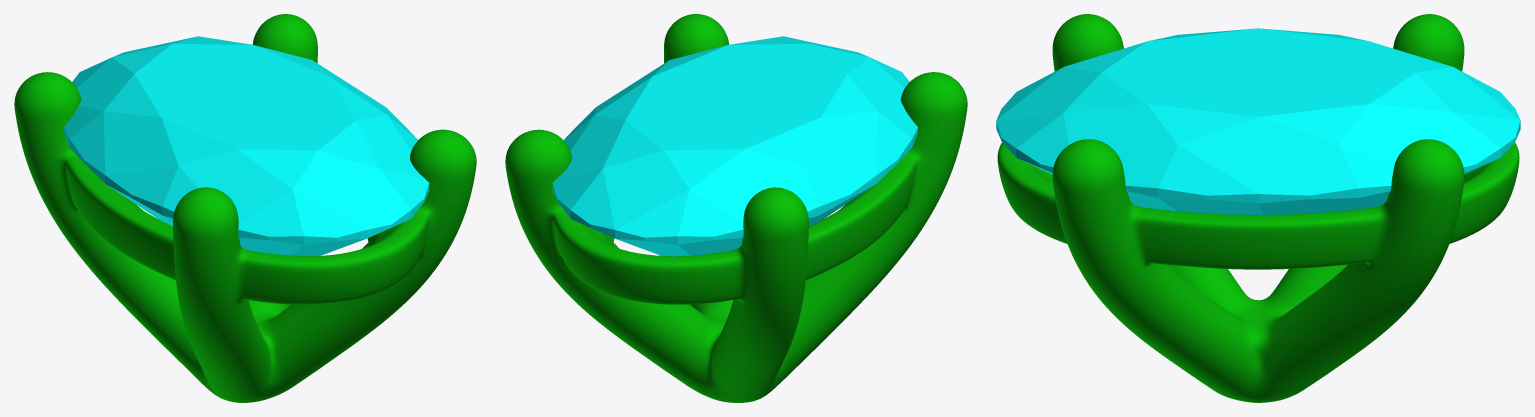
3 views of the same model, side by side, from view 1: azimuth 30°, elevation 25°; view 2: azimuth 150°, elevation 25°; view 3: azimuth 270°, elevation 25° (orthographic). The views are drawn at different scales.
Parts seen in each view (by area): view 1: Metal01, Diamond_Oval; view 2: Metal01, Diamond_Oval; view 3: Metal01, Diamond_Oval.
Part boxes in pixels (bbox=[...]): Metal01: bbox=[14, 14, 476, 402]; Diamond_Oval: bbox=[63, 36, 429, 256]; Metal01: bbox=[505, 14, 967, 402]; Diamond_Oval: bbox=[552, 36, 917, 256]; Metal01: bbox=[997, 14, 1519, 402]; Diamond_Oval: bbox=[996, 28, 1520, 214].
Size of the model in its own units: 5.18 by 4.96 by 7.38.
